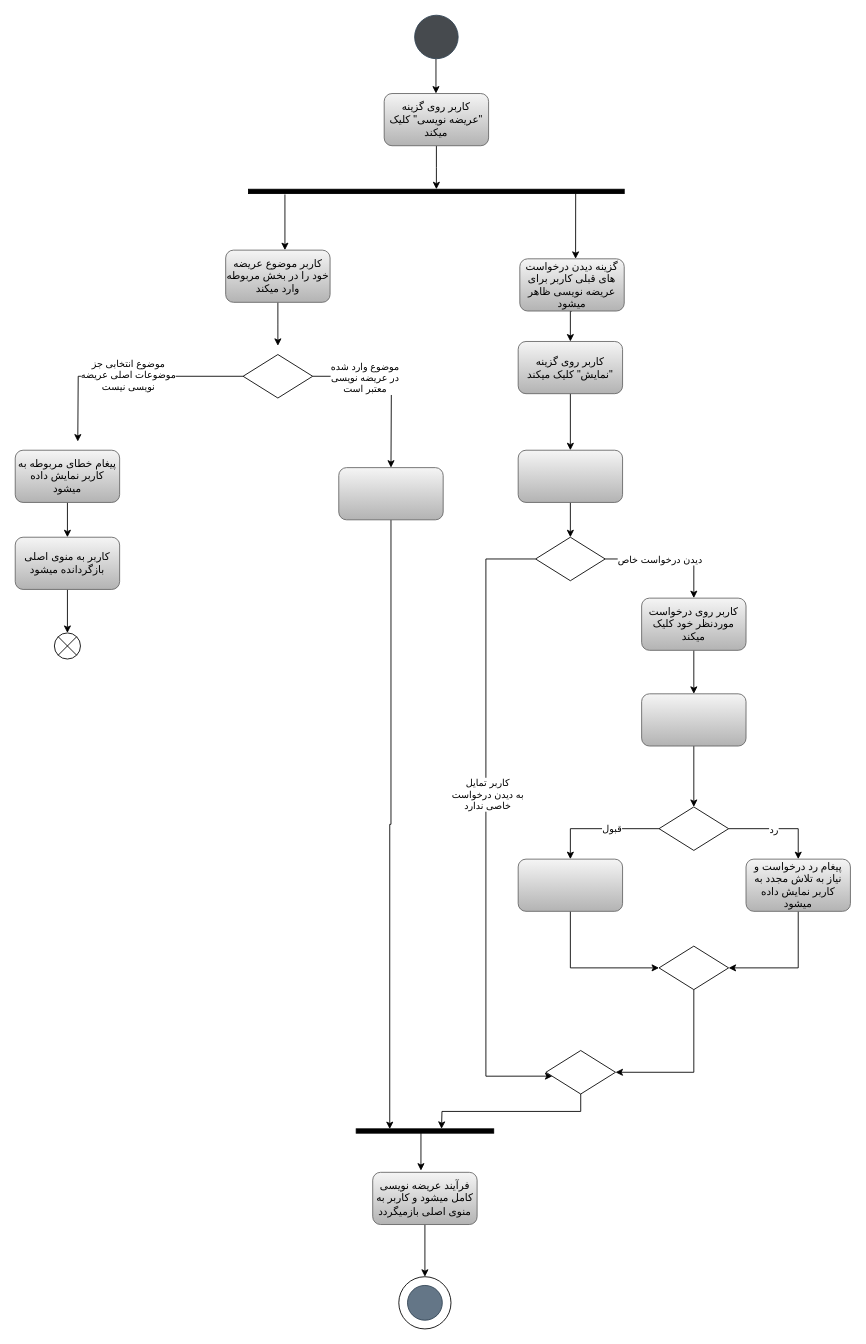
Image size: 866x1344. Some labels were removed from this diagram. The centre of each missing label's shape, as x and y in pixels:
"جزئیات درخواست و نتیجه آن به کاربر نمایش داده میشود" belongs at (693,719).
"درخواست کاربر برای یک عریضه نویس ارسال میشود" belongs at (390,493).
"لیستی از درخواست های قبلی کاربر نشان داده میشود" belongs at (570,475).
"کاربر عریضه نوشته شده را دریافت میکند" belongs at (570,884).
